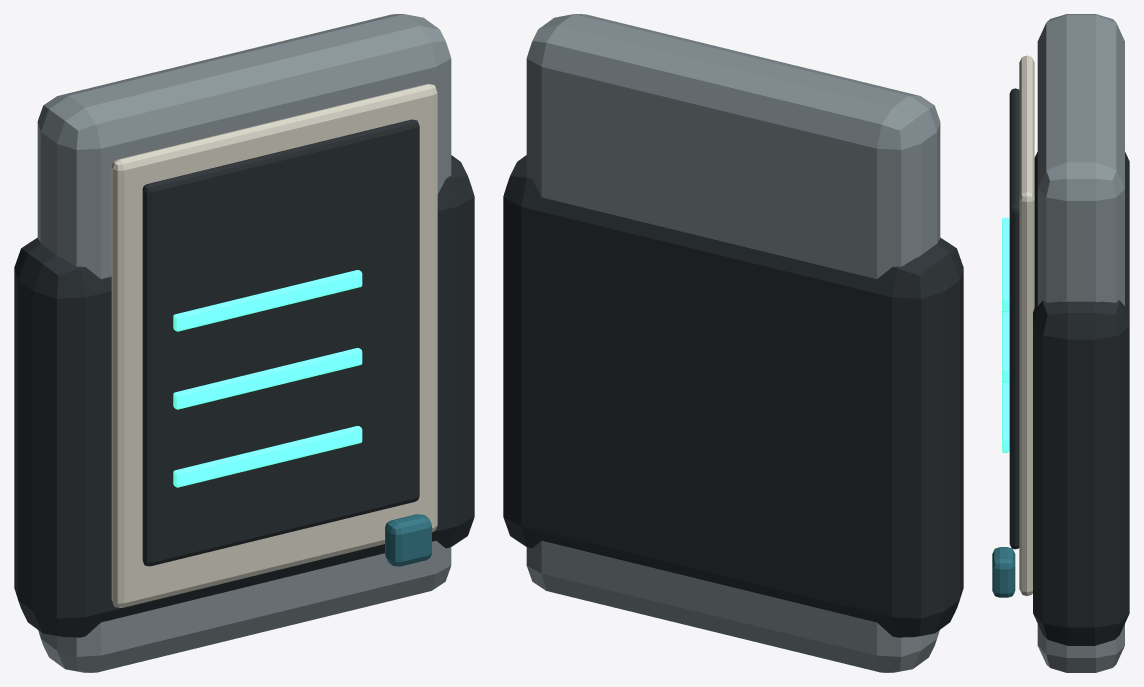
Rendered from crew-tablet-b03.glb.
3 views of the same model, side by side, from view 1: azimuth 30°, elevation 25°; view 2: azimuth 150°, elevation 25°; view 3: azimuth 270°, elevation 25° (orthographic). The views are drawn at different scales.
Visible parts, largest first — view 1: H01 batch 01 / Blackout / graphite elastomer, H01 batch 00 / Blackout / brushed titanium, H01 batch 02 / Blackout / ceramic service enamel, H01 batch 03 / Blackout / operating indicator, H01 batch 04 / Blackout / water line enamel; view 2: H01 batch 01 / Blackout / graphite elastomer, H01 batch 00 / Blackout / brushed titanium; view 3: H01 batch 01 / Blackout / graphite elastomer, H01 batch 00 / Blackout / brushed titanium, H01 batch 02 / Blackout / ceramic service enamel, H01 batch 03 / Blackout / operating indicator, H01 batch 04 / Blackout / water line enamel.
Part boxes in pixels (<box>): H01 batch 01 / Blackout / graphite elastomer: <box>14,119,474,637</box>; H01 batch 00 / Blackout / brushed titanium: <box>37,14,451,672</box>; H01 batch 02 / Blackout / ceramic service enamel: <box>111,84,437,607</box>; H01 batch 03 / Blackout / operating indicator: <box>173,270,362,487</box>; H01 batch 04 / Blackout / water line enamel: <box>385,514,431,566</box>; H01 batch 01 / Blackout / graphite elastomer: <box>503,155,963,637</box>; H01 batch 00 / Blackout / brushed titanium: <box>526,14,940,672</box>; H01 batch 01 / Blackout / graphite elastomer: <box>1009,88,1129,645</box>; H01 batch 00 / Blackout / brushed titanium: <box>1037,14,1124,672</box>; H01 batch 02 / Blackout / ceramic service enamel: <box>1019,55,1034,595</box>; H01 batch 03 / Blackout / operating indicator: <box>1002,217,1009,452</box>; H01 batch 04 / Blackout / water line enamel: <box>992,547,1015,597</box>.
Size of the model in its own units: 0.235 by 0.29 by 0.071.
